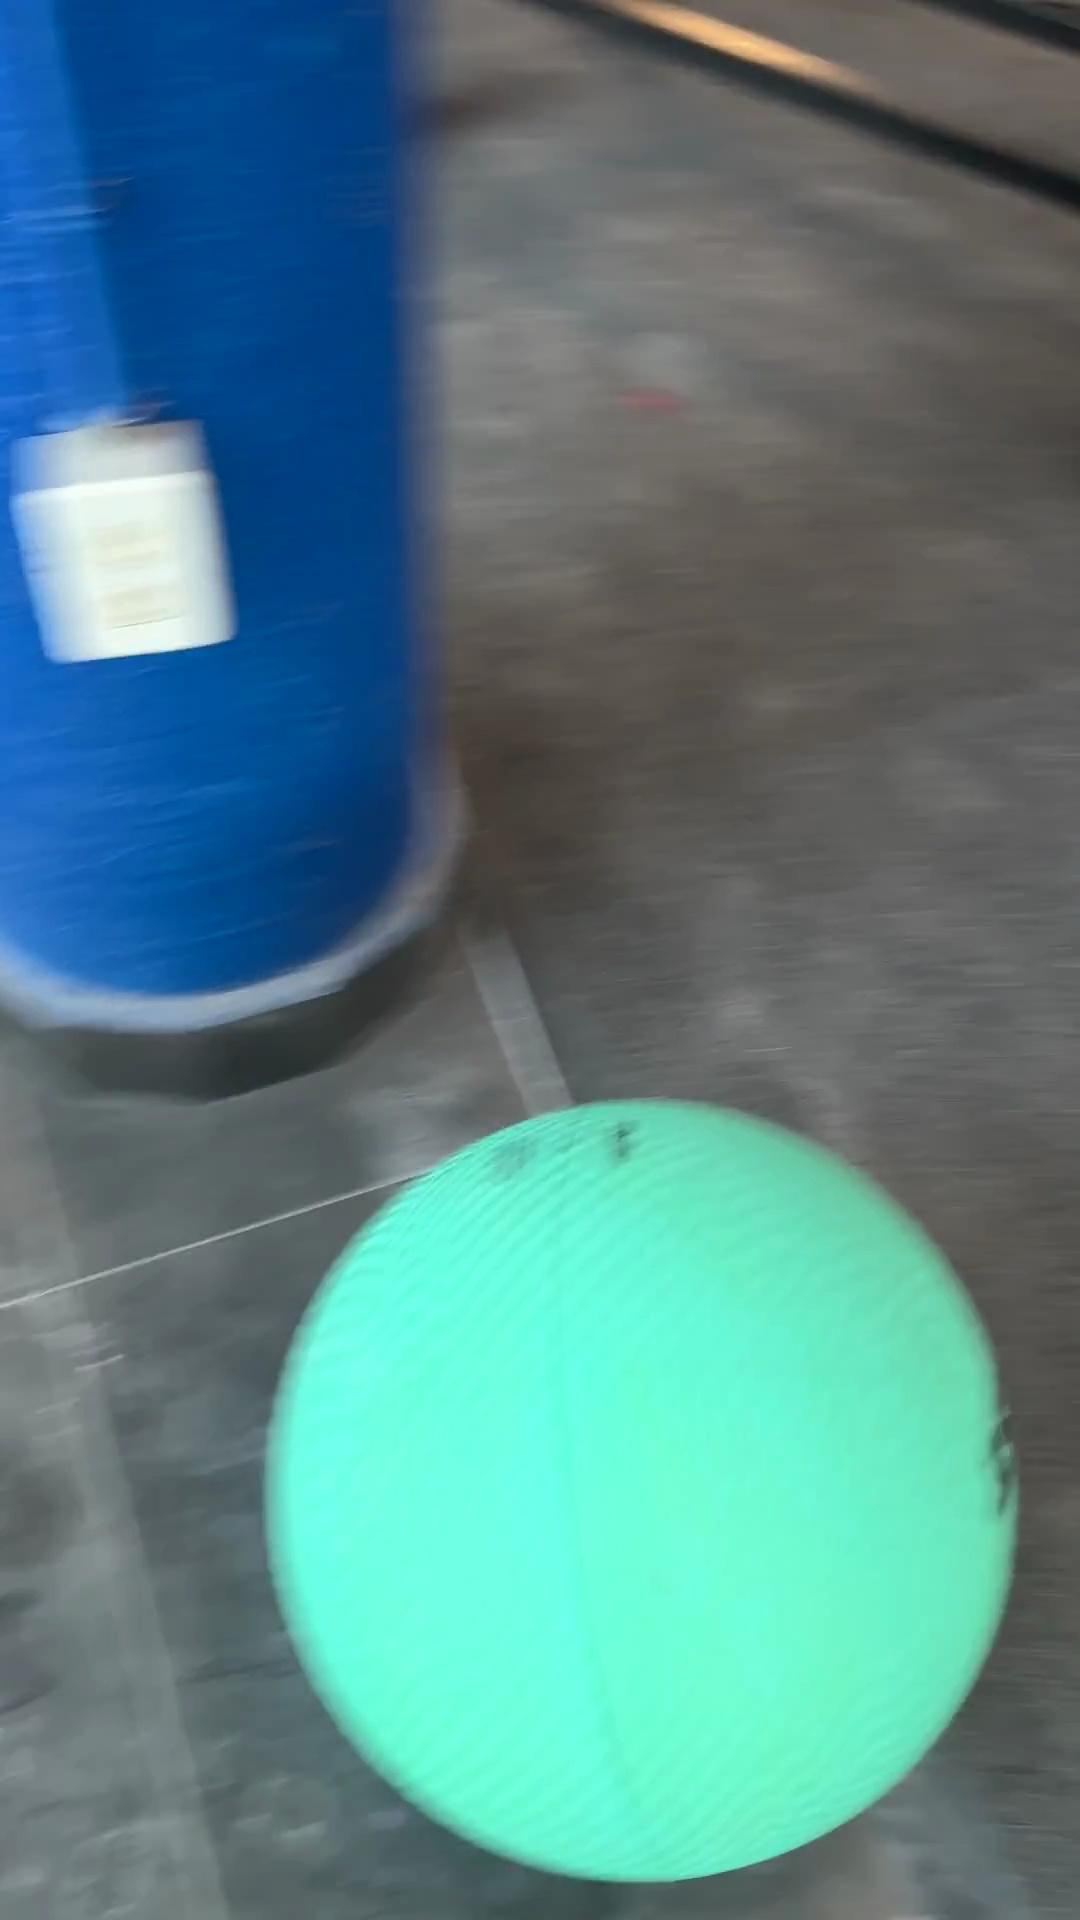ALGAE: (260, 1093, 1021, 1884)
